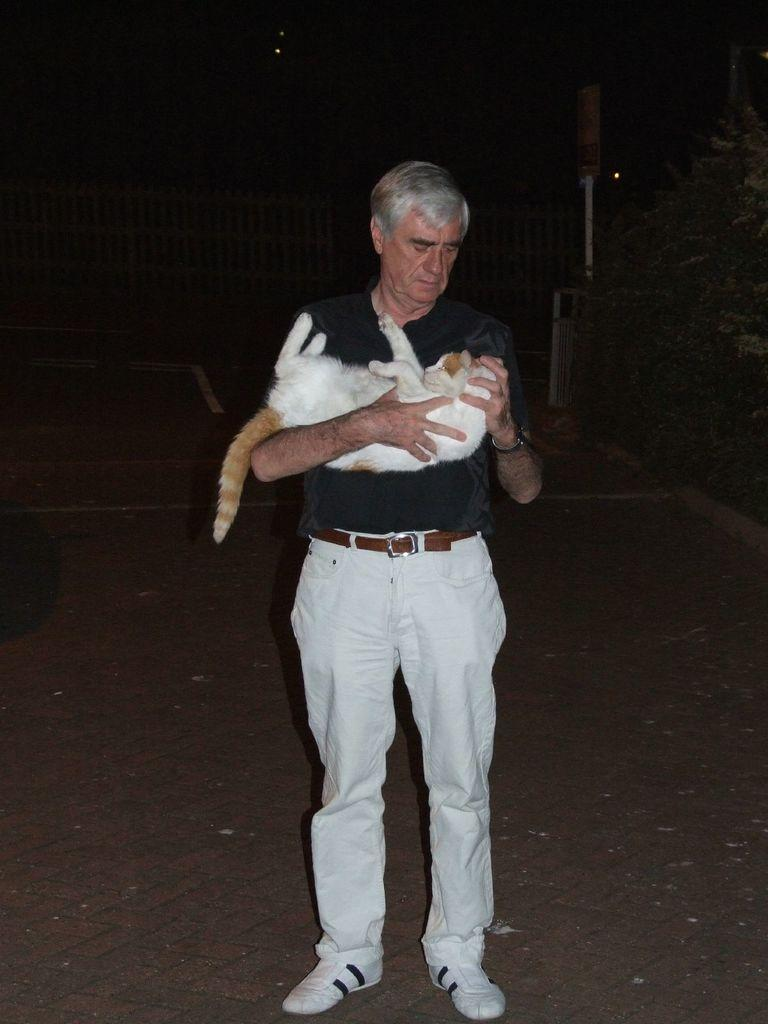Sem Máscara: (380, 211, 464, 307)
